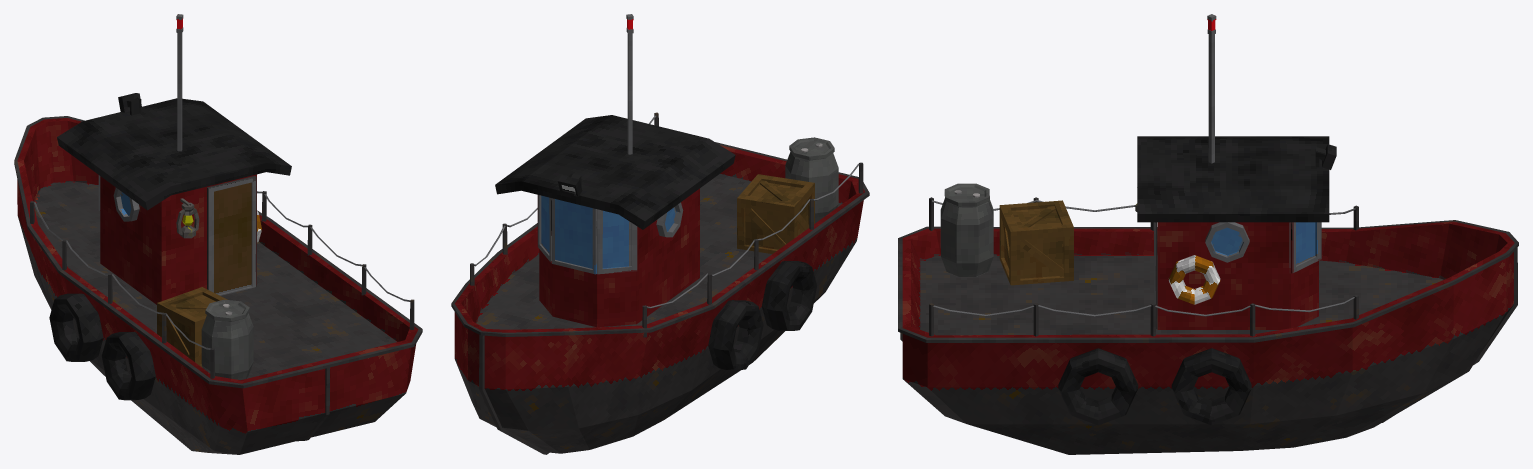
The model's file is BoatModel.glb.
3 renders of one model, left to right at view 1: azimuth 30°, elevation 25°; view 2: azimuth 150°, elevation 25°; view 3: azimuth 270°, elevation 25°, orthographic. The views are drawn at different scales.
Parts seen in each view (by area): view 1: BoatReady; view 2: BoatReady; view 3: BoatReady.
Part boxes in pixels (x1,y1,x2,y2): BoatReady: (14,14,422,454); BoatReady: (451,14,869,454); BoatReady: (898,14,1518,454).
Size of the model in its own units: 5.7 by 8.68 by 11.96.
Materials: 1 (1 with a texture image).
